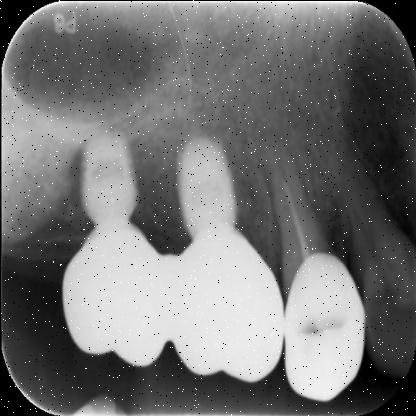Bicon: (74, 132, 138, 242)
